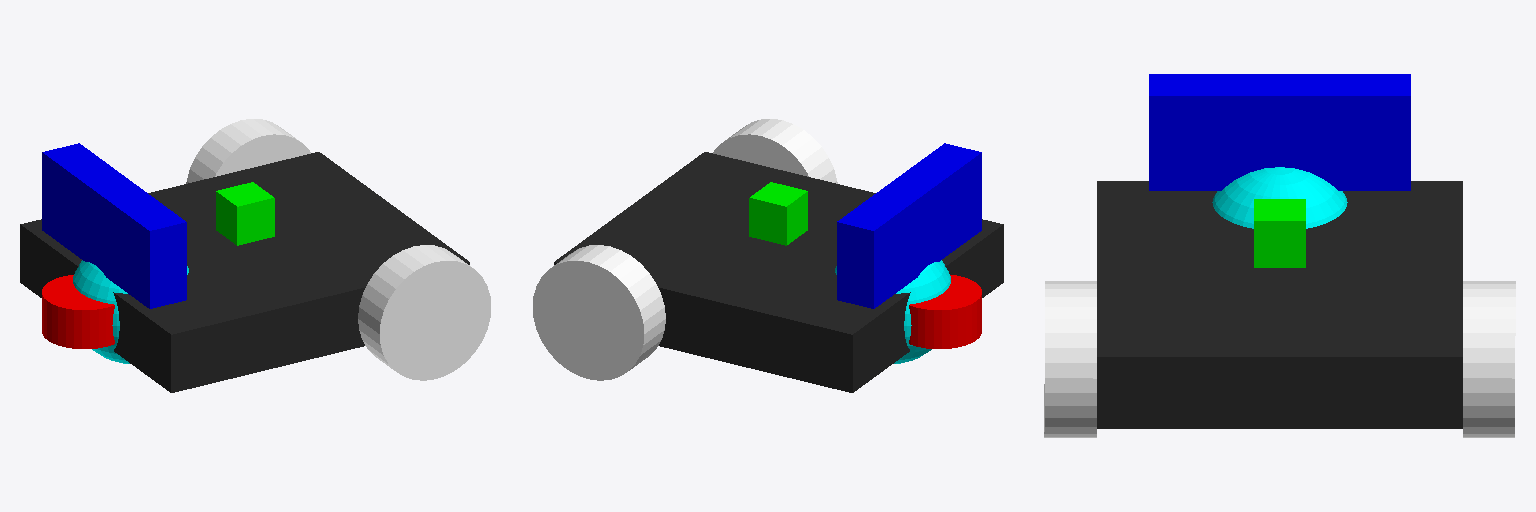
The robot description file, URDF, robot "rover":
<?xml version="1.0" ?>
<robot name="rover">
    <!-- main center object -->
    <link name="base_link">
        <visual>
            <geometry>
                <box size="0.4 0.35 0.075"/>
            </geometry>
            <material name="gray">
                <color rgba="0.2 0.2 0.2 1"/>
            </material>
        </visual>
        <inertial>
            <mass value="2"/>
            <inertia ixx="0.04" ixy="0.0" ixz="0.0" iyy="0.17" iyz="0.0" izz="0.25" />
        </inertial>
        <collision>
            <geometry>
                <box size="0.4 0.35 0.1"/>
            </geometry>
        </collision>
    </link>

    <!-- Robot Footprint -->
    <link name="base_footprint"/>

    <joint name="base_joint" type="fixed">
        <parent link="base_link"/>
        <child link="base_footprint"/>
        <origin xyz="0.0 0.0 -0.075" rpy="0 0 0"/>
    </joint>

    <!-- front right wheel object -->
    <link name="wheel_front_right">
        <inertial>
            <mass value="2"/>
            <inertia ixx="1e-3" ixy="0.0" ixz="0" iyy="1e-3" iyz="0" izz="1e-3"/>
        </inertial>
        <visual>
            <geometry>
                <cylinder radius="0.075" length="0.05"/>
            </geometry>
            <material name="whtie">
                <color rgba="1 1 1 1"/>
            </material>
        </visual>
        <collision>
            <geometry>
                <cylinder radius="0.075" length="0.05"/>
            </geometry>
            <contact_coefficients mu="1" kp="1e+13" kd="1.0"/>
        </collision>
    </link>
    <!-- front right wheel joint -->
    <joint name="wheel_front_right_joint" type="continuous">
        <origin xyz="0.125 0.2 0.0" rpy="1.57 0.0 0.0"/>
        <parent link="base_link"/>
        <child link="wheel_front_right"/>
        <axis xyz="0.0 0.0 1.0"/>
    </joint>

    <!-- front left wheel object -->
    <link name="wheel_front_left">
        <inertial>
            <mass value="2"/>
            <inertia ixx="1e-3" ixy="0.0" ixz="0" iyy="1e-3" iyz="0" izz="1e-3"/>
        </inertial>
        <visual>
            <geometry>
                <cylinder radius="0.075" length="0.05"/>
            </geometry>
            <material name="whtie">
                <color rgba="1 1 1 1"/>
            </material>
        </visual>
        <collision>
            <geometry>
                <cylinder radius="0.075" length="0.05"/>
            </geometry>
            <contact_coefficients mu="1" kp="1e+13" kd="1.0"/>
        </collision>
    </link>

    <!-- front left wheel joint -->
    <joint name="wheel_front_left_joint" type="continuous">
        <origin xyz="0.125 -0.2 0.0" rpy="1.57 0.0 0.0"/>
        <parent link="base_link"/>
        <child link="wheel_front_left"/>
        <axis xyz="0.0 0.0 1.0"/>
    </joint>

    <!-- Caster Wheel -->
    <link name="front_caster" type="fix">
        <visual>
        <geometry>
            <sphere radius="0.075"/>
        </geometry>
        <material name="Cyan">
            <color rgba="0 1.0 1.0 1.0"/>
        </material>
        </visual>
        <collision>
            <geometry>
                <sphere radius="0.075"/>
            </geometry>
        </collision>
    </link>

    <joint name="caster_joint" type="fixed">
        <parent link="base_link"/>
        <child link="front_caster"/>
        <origin xyz="-0.15 0.0 0" rpy="0 0 0"/>
    </joint>

    <!-- add camera object -->
    <link name="camera_link">
    <inertial>
        <mass value="0.5"/>
        <inertia ixx="0.01" ixy="0.0" ixz="0" iyy="0.01" iyz="0" izz="0.01"/>
    </inertial>
    <visual>
        <geometry>
        <box size="0.05 0.25 0.1"/>
        </geometry>
        <material name="blue">
        <color rgba="0 0 1 1"/>
        </material>
    </visual>
    </link>

    <!-- add camera joint -->
    <joint name="camera_joint" type="fixed">
    <origin xyz="-0.175 0 0.1" rpy="0 0.0 3.14"/>
    <parent link="base_link"/>
    <child link="camera_link"/>
    <axis xyz="0.0 0.0 1.0"/>
    </joint>

    <!-- add lidar object -->
    <link name="lidar_link">
    <inertial>
        <mass value="0.5"/>
        <inertia ixx="0.01" ixy="0.0" ixz="0" iyy="0.01" iyz="0" izz="0.01"/>
    </inertial>
    <visual>
        <geometry>
        <cylinder radius="0.05" length="0.05"/>
        </geometry>
        <material name="red">
        <color rgba="1 0 0 0.7"/>
        </material>
    </visual>
    </link>

    <!-- add lidar joint -->
    <joint name="lidar_joint" type="fixed">
    <origin xyz="-0.215 0 0.0" rpy="0 0.0 1.57"/>
    <parent link="base_link"/>
    <child link="lidar_link"/>
    <axis xyz="0.0 0.0 1.0"/>
    </joint>

    <!-- add imu object -->
    <link name="imu_link">
    <visual>
        <inertial>
        <mass value="0.3"/>
        <inertia ixx="0.01" ixy="0.0" ixz="0" iyy="0.01" iyz="0" izz="0.01"/>
        </inertial>
        <geometry>
        <box size="0.05 0.05 0.05"/>
        </geometry>
        <material name="green">
        <color rgba="0 1 0 0.7"/>
        </material>
    </visual>
    <collision>
        <geometry>
        <box size="0.05 0.05 0.05"/>
        </geometry>
    </collision>
    </link>

    <!-- add imu joint -->
    <joint name="imu_joint" type="fixed">
    <origin xyz="0 0 0.075" rpy="0 0 0"/>
    <parent link="base_link"/>
    <child link="imu_link"/>
    <axis xyz="0 0 1.0"/>
    </joint>

</robot>

--- Facts derived from the render (not from the file) ---
Views: 3 orthographic renders of the robot side by side, from view 1: azimuth 30°, elevation 25°; view 2: azimuth 150°, elevation 25°; view 3: azimuth 270°, elevation 25°.
Model rover with 8 links and 7 joints (2 continuous, 5 fixed), rooted at base_link, posed all joints at 0.
Links seen in each view (by area): view 1: base_link, camera_link, wheel_front_left, wheel_front_right, lidar_link, imu_link, front_caster; view 2: base_link, camera_link, wheel_front_right, wheel_front_left, lidar_link, imu_link, front_caster; view 3: base_link, camera_link, wheel_front_right, wheel_front_left, front_caster, imu_link.
Link boxes in pixels (left/top/right/bottom): base_link: left=20, top=152, right=469, bottom=392; camera_link: left=42, top=143, right=186, bottom=308; wheel_front_left: left=358, top=245, right=490, bottom=380; wheel_front_right: left=186, top=119, right=310, bottom=183; lidar_link: left=42, top=275, right=114, bottom=348; imu_link: left=216, top=182, right=274, bottom=245; front_caster: left=73, top=260, right=188, bottom=363; base_link: left=554, top=152, right=1003, bottom=392; camera_link: left=837, top=143, right=981, bottom=308; wheel_front_right: left=533, top=245, right=665, bottom=380; wheel_front_left: left=713, top=119, right=837, bottom=183; lidar_link: left=909, top=275, right=981, bottom=348; imu_link: left=749, top=182, right=807, bottom=245; front_caster: left=835, top=260, right=950, bottom=363; base_link: left=1097, top=181, right=1462, bottom=428; camera_link: left=1149, top=74, right=1410, bottom=190; wheel_front_right: left=1463, top=281, right=1515, bottom=437; wheel_front_left: left=1044, top=281, right=1096, bottom=437; front_caster: left=1212, top=167, right=1347, bottom=228; imu_link: left=1254, top=199, right=1305, bottom=267.
Size in the robot's own frame: 0.465 by 0.4501 by 0.225 metres.
Geometry: primitives only (box / cylinder / sphere), no mesh files.